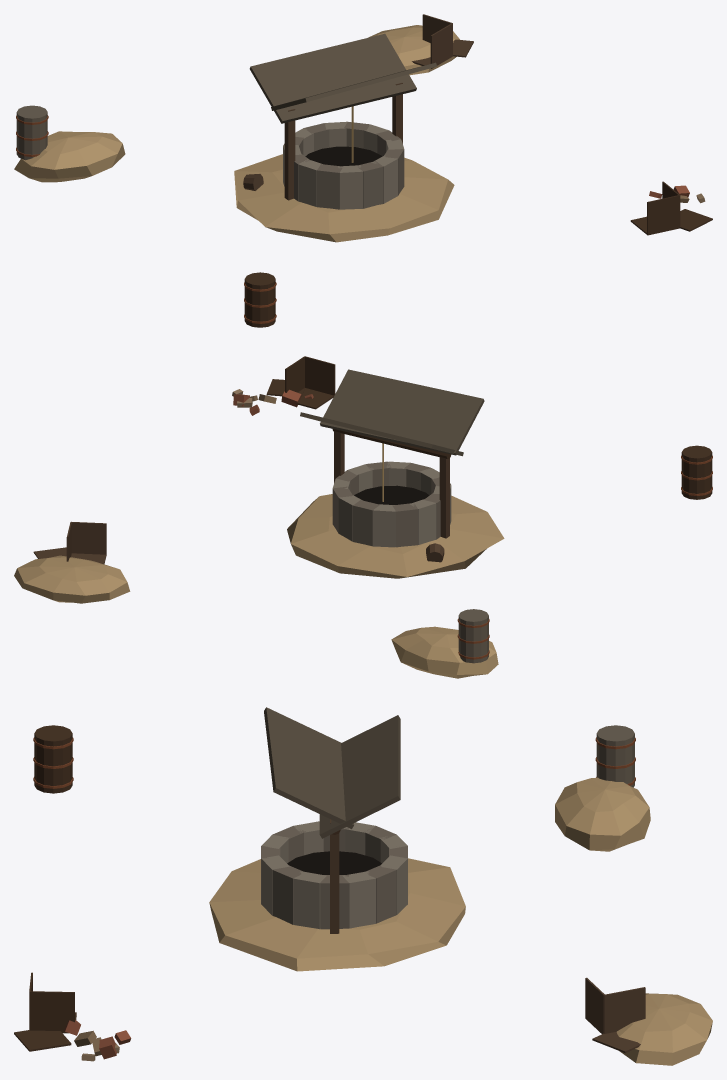
Rendered from TownRoom_well.glb.
The picture shows the model from 3 angles, top to bottom: view 1: azimuth 30°, elevation 25°; view 2: azimuth 150°, elevation 25°; view 3: azimuth 270°, elevation 25°; orthographic projection. The views are drawn at different scales.
Visible parts, largest first — view 1: TownRoom_well.001; view 2: TownRoom_well.001; view 3: TownRoom_well.001.
Boxes of the visible parts, x1=… form: TownRoom_well.001: x1=14, y1=14, x2=712, y2=327; TownRoom_well.001: x1=14, y1=356, x2=712, y2=678; TownRoom_well.001: x1=14, y1=707, x2=712, y2=1065.
Bounding box in the file's own units: 10.58 × 3.26 × 10.94.
